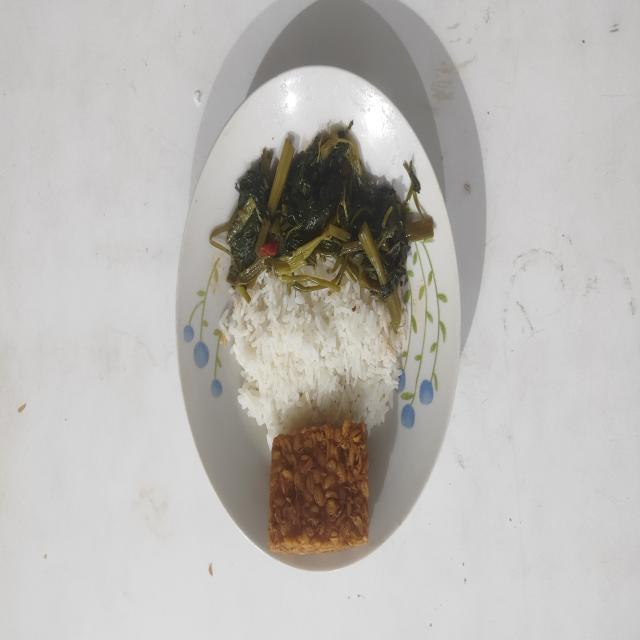nasi_putih: (218, 271, 408, 446)
tempe_goreng: (268, 419, 369, 554)
tumis_kangkung: (210, 121, 434, 331)
